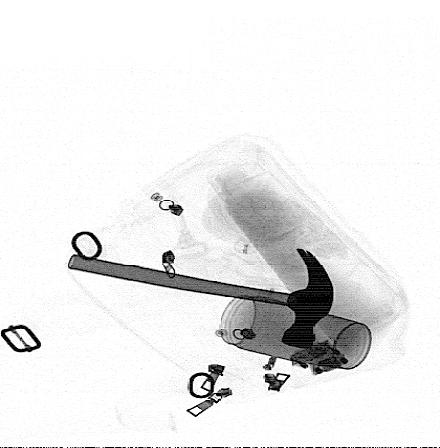Hammer: (67, 247, 335, 350)
